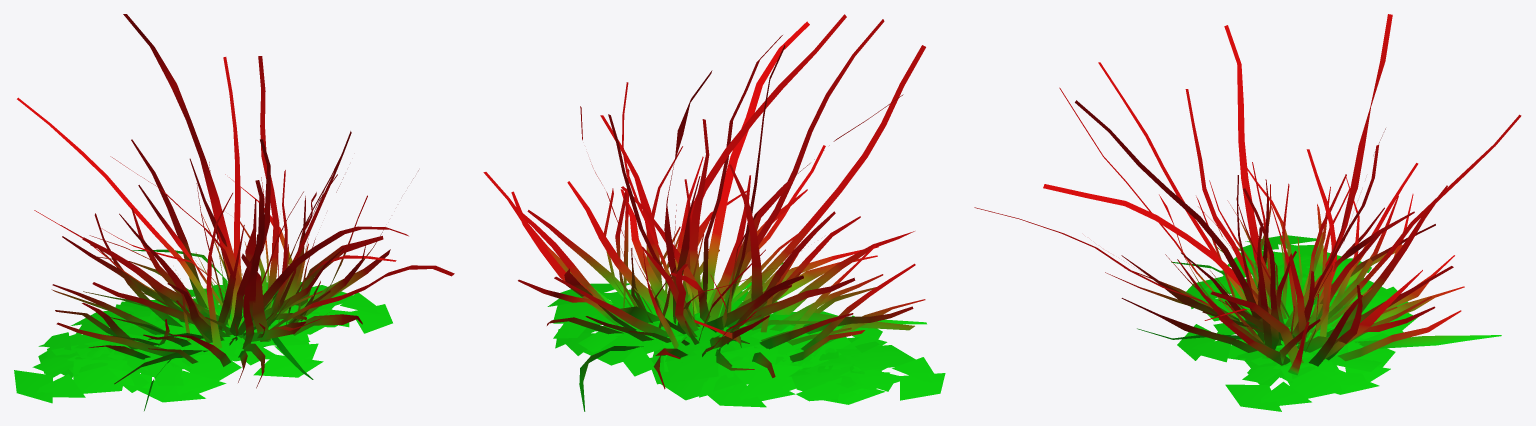
Rendered from Wild Grass_LOD3_Var9_vczndjqja.fbx.
The picture shows the model from 3 angles, left to right: view 1: azimuth 30°, elevation 25°; view 2: azimuth 150°, elevation 25°; view 3: azimuth 270°, elevation 25°; orthographic projection. The views are drawn at different scales.
Visible parts, largest first — view 1: _uar1_Var9_LOD3; view 2: _uar1_Var9_LOD3; view 3: _uar1_Var9_LOD3.
Part boxes in pixels (box(x1,y1,x2,y2)): _uar1_Var9_LOD3: box(14, 14, 454, 410); _uar1_Var9_LOD3: box(483, 14, 945, 411); _uar1_Var9_LOD3: box(974, 14, 1521, 411).
Bounding box in the file's own units: 121 × 84.2 × 139.
